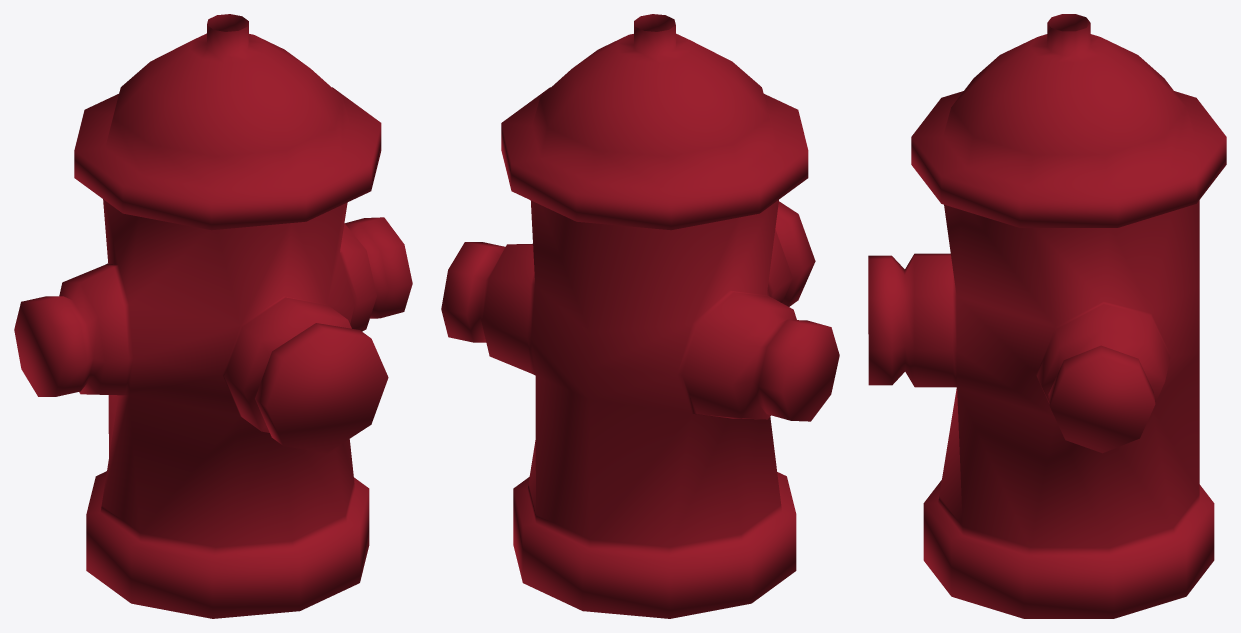
Rendered from Hidrante.fbx.
3 renders of one model, left to right at view 1: azimuth 30°, elevation 25°; view 2: azimuth 150°, elevation 25°; view 3: azimuth 270°, elevation 25°, orthographic.
Visible parts, largest first — view 1: Cylinder; view 2: Cylinder; view 3: Cylinder.
Part boxes in pixels (x1,y1,x2,y2): Cylinder: (14,14,412,618); Cylinder: (441,14,839,618); Cylinder: (868,14,1226,618).
Bounding box in the file's own units: 311 × 454 × 274.
